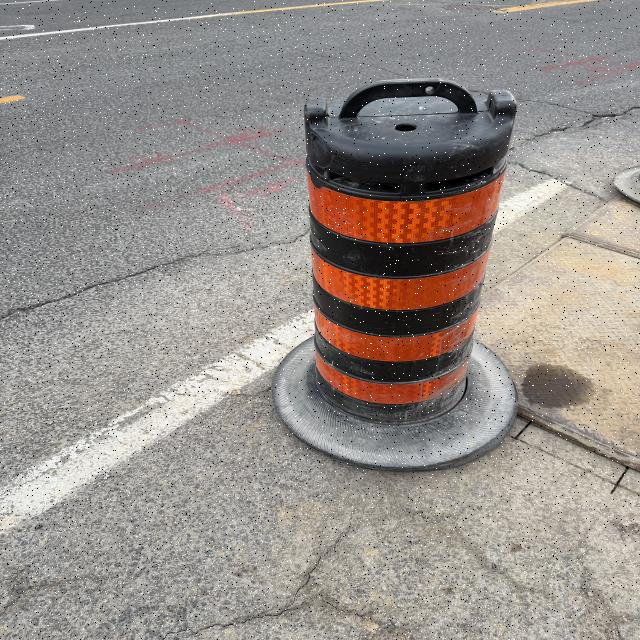Teraffic Barrel: (272, 80, 516, 470)
